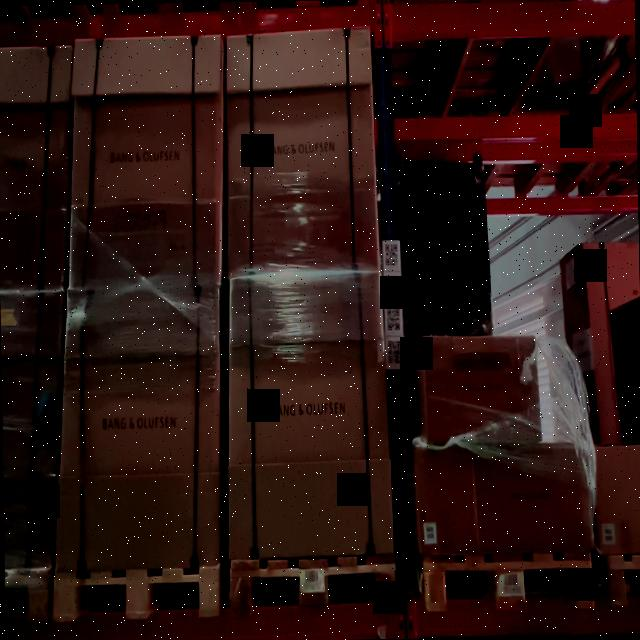box: (227, 272, 393, 560), (55, 285, 220, 574), (68, 34, 224, 289), (226, 27, 378, 274), (424, 335, 542, 449), (472, 443, 592, 552), (414, 444, 480, 555)
